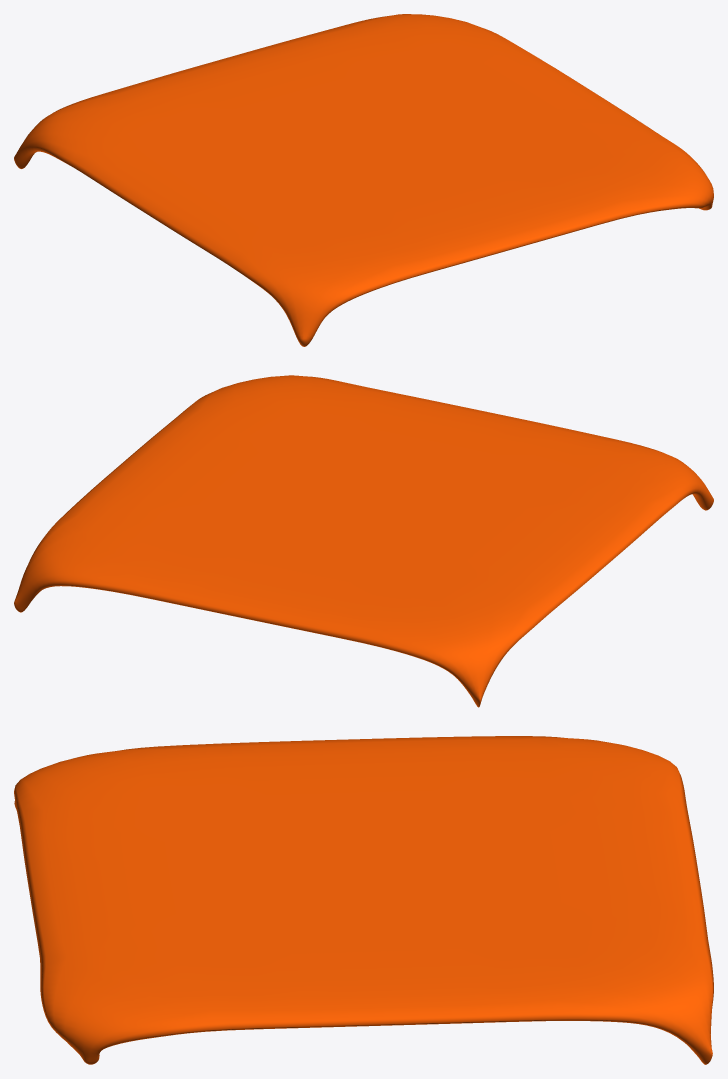
File: cheeseSlice.FBX
3 views of the same model, one above another, from view 1: azimuth 30°, elevation 25°; view 2: azimuth 150°, elevation 25°; view 3: azimuth 270°, elevation 25° (orthographic). The views are drawn at different scales.
Visible parts, largest first — view 1: cheeseSlice; view 2: cheeseSlice; view 3: cheeseSlice.
Part boxes in pixels (x1,y1,x2,y2): cheeseSlice: (14,14,713,346); cheeseSlice: (14,375,713,707); cheeseSlice: (14,736,713,1064).
Size of what is drawn, in the model's own units: 185 by 187 by 20.13.
